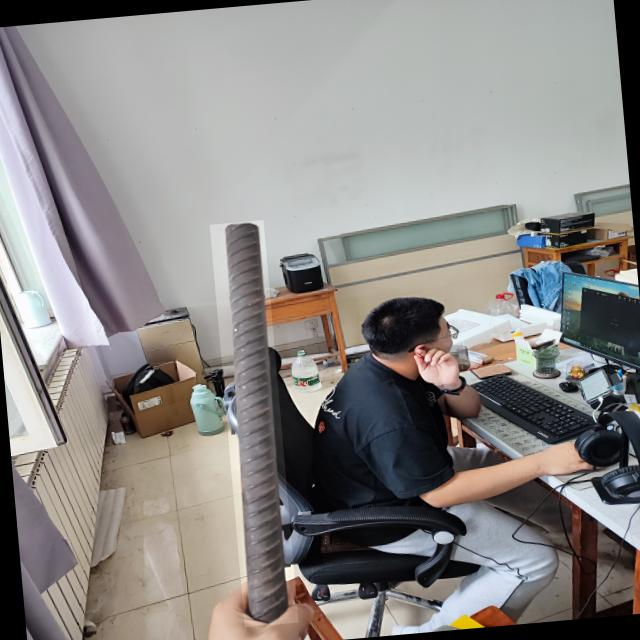ribbed bar: (208, 219, 298, 626)
